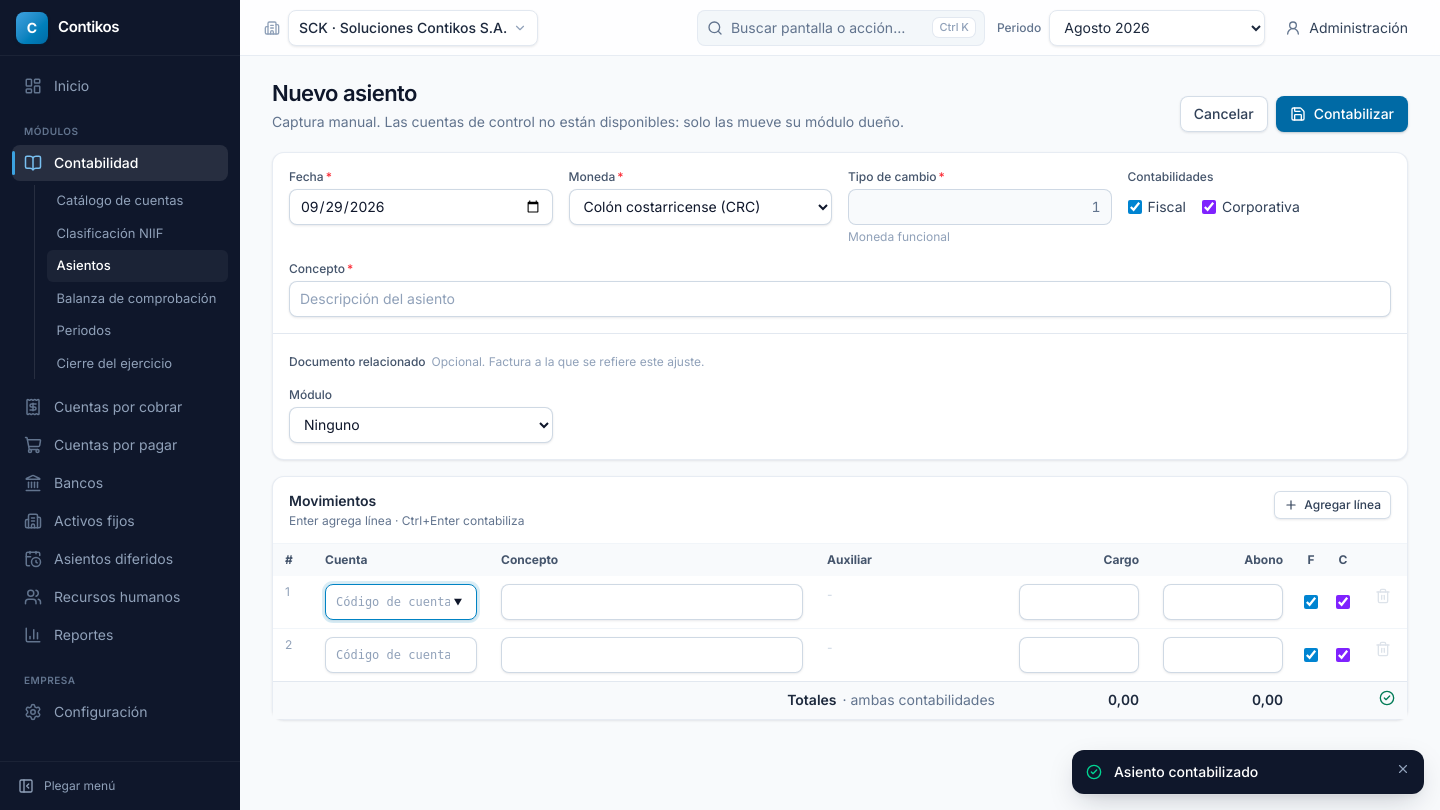
Scenario: Captura de asiento › busca el auxiliar por código o por nombre, nunca por id
This screenshot has width=1440, height=810.
In the date field labelled "Fecha*": (421, 206) [289,188,552,224], type "2026-08-20"
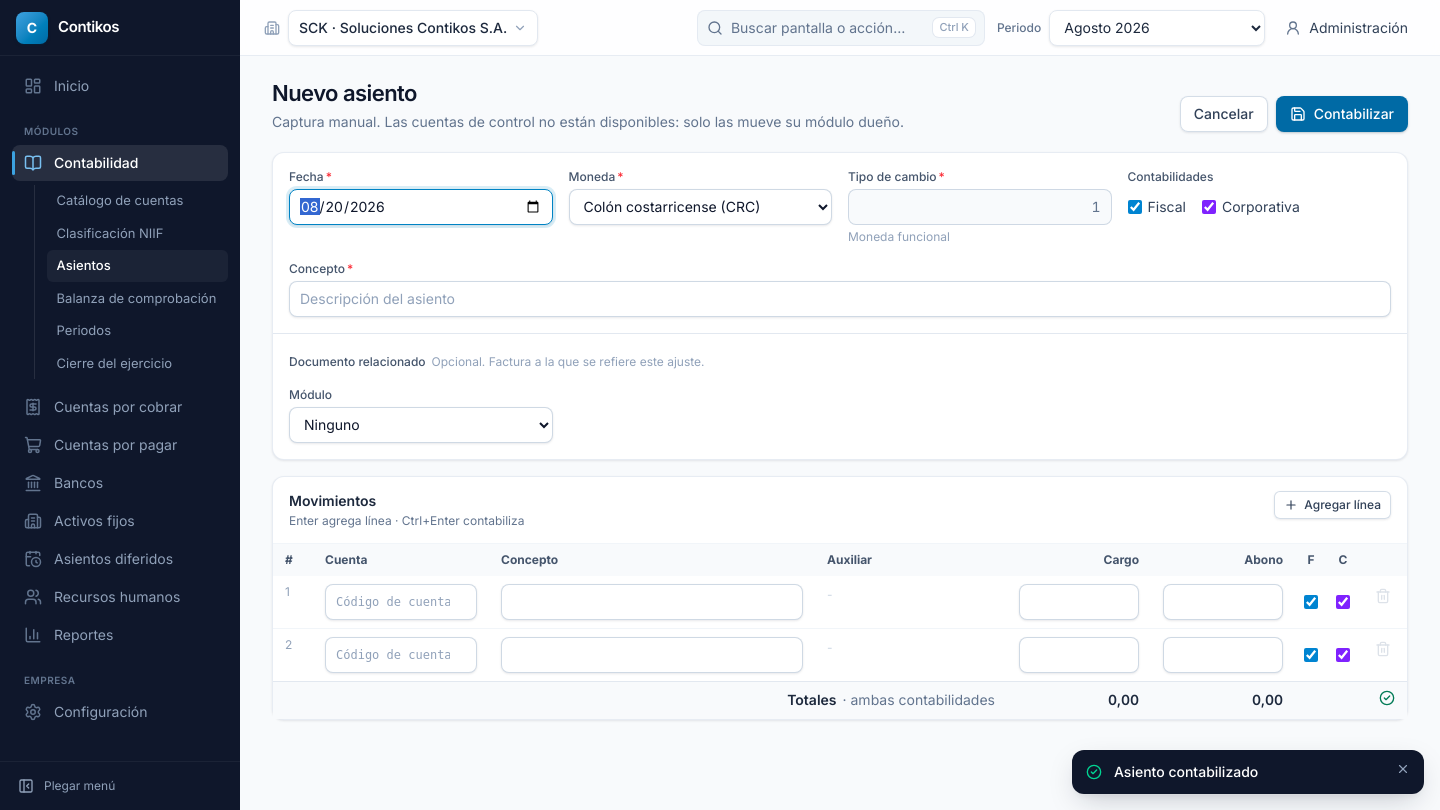
In the 1st field labelled "cuenta": (401, 602) [325,584,477,620], type "2.1.04.001"
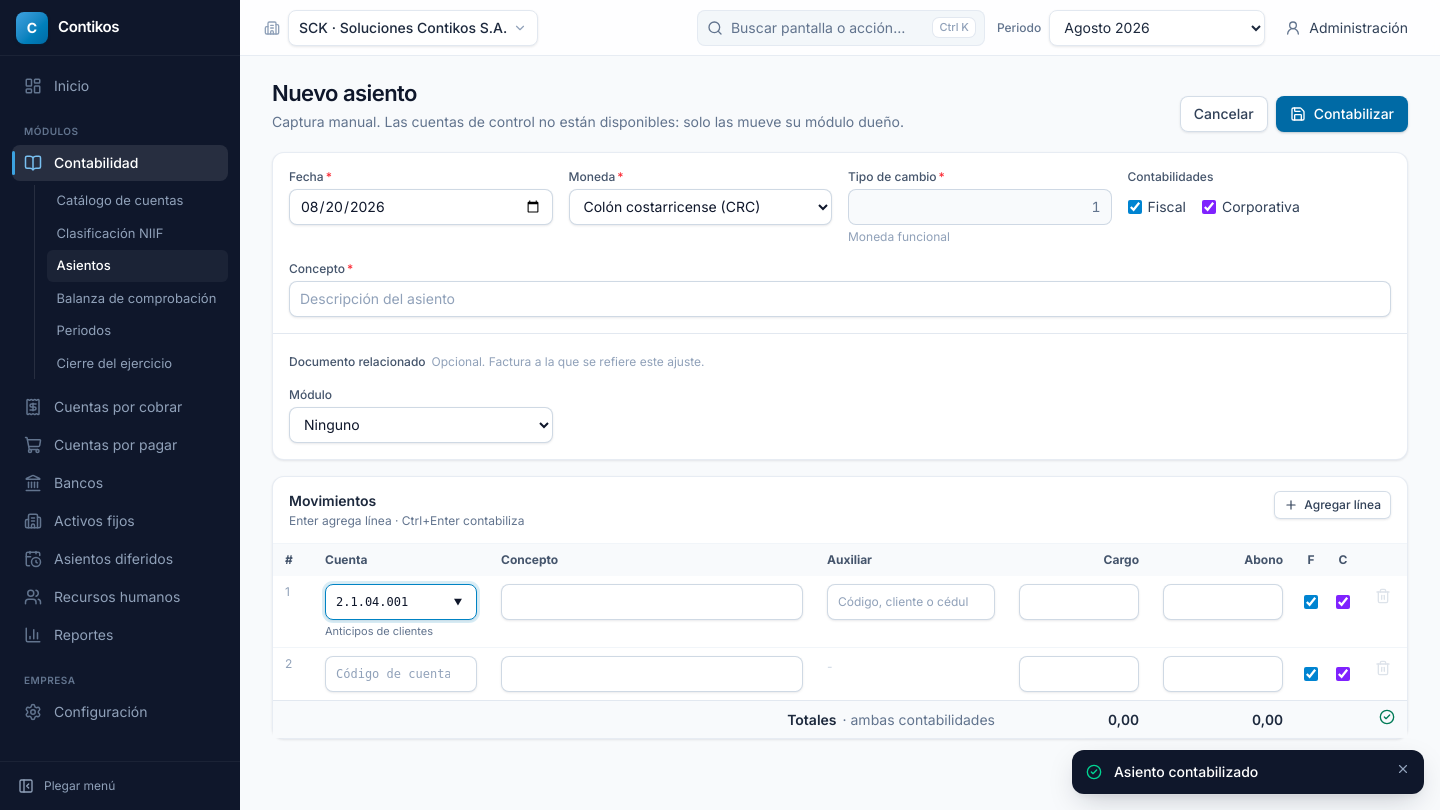
In the field named "Auxiliar": (911, 602) [827,584,995,620], type "C-002"
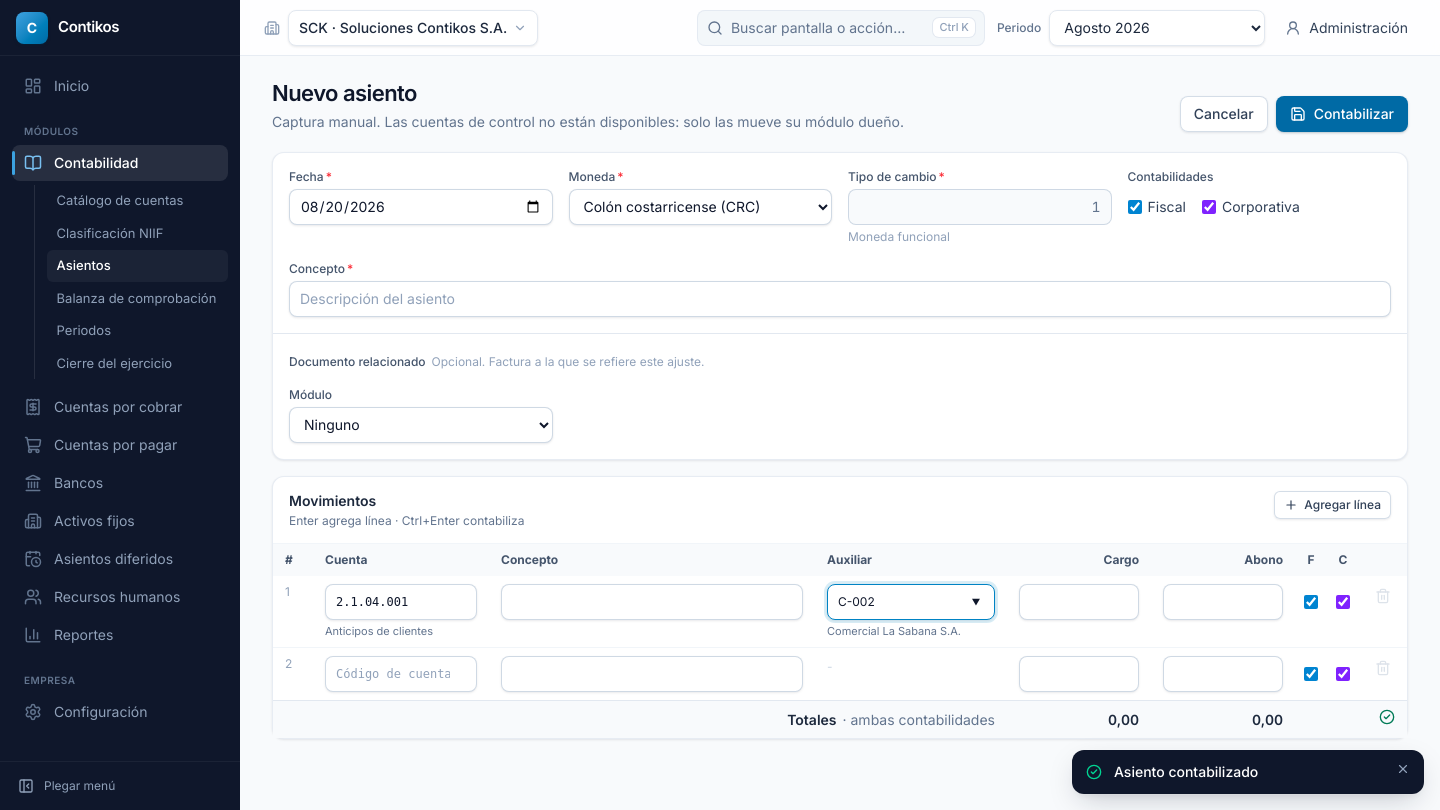
Expected: the text "Comercial La Sabana S.A." is shown, [827,624,961,638]
Replace the text in the field named "Auxiliar" with "cli-002": (911, 602) [827,584,995,620]
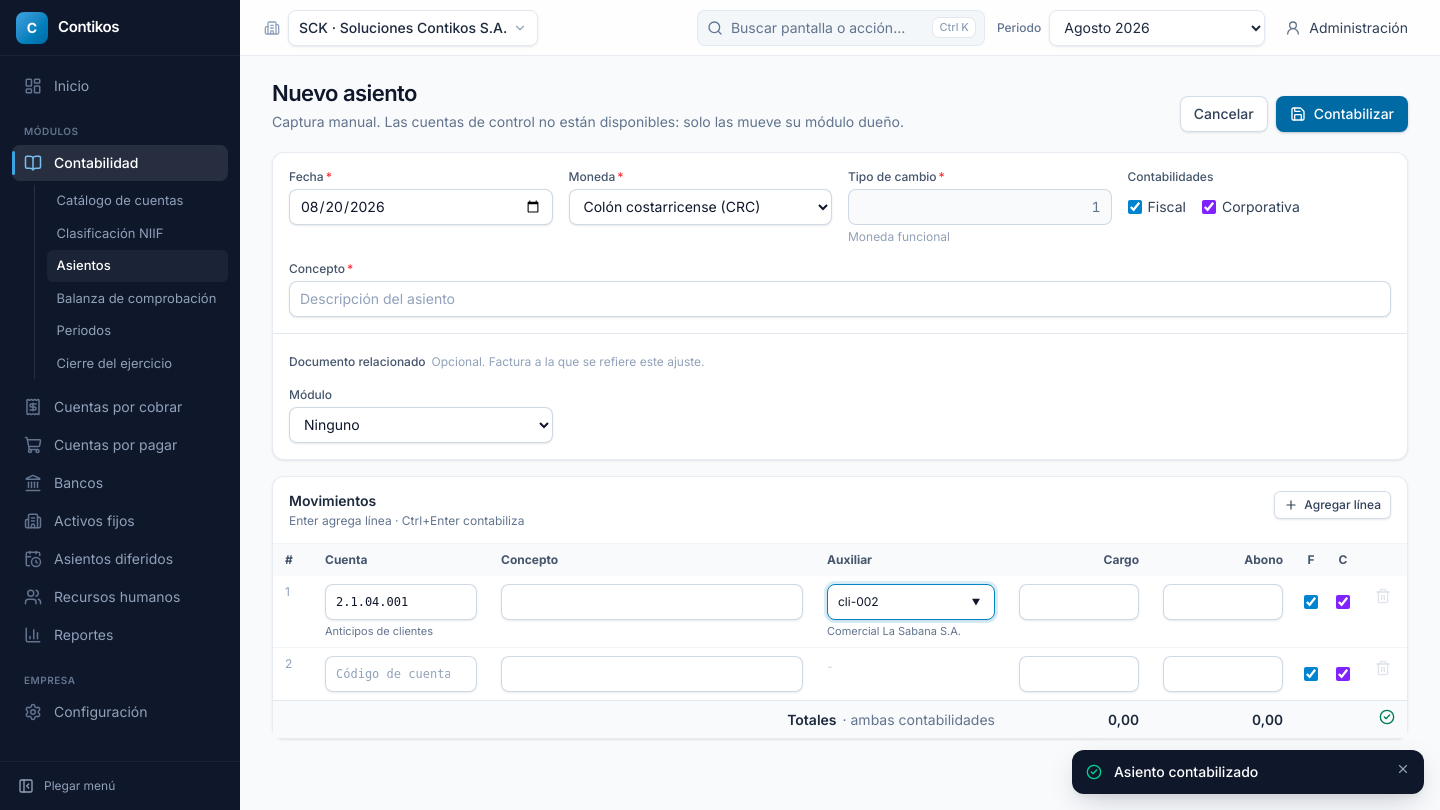
Expected: the text "Comercial La Sabana S.A." is shown, [827,624,961,638]
Replace the text in the field named "Auxiliar" with "Un cliente que no existe": (911, 602) [827,584,995,620]
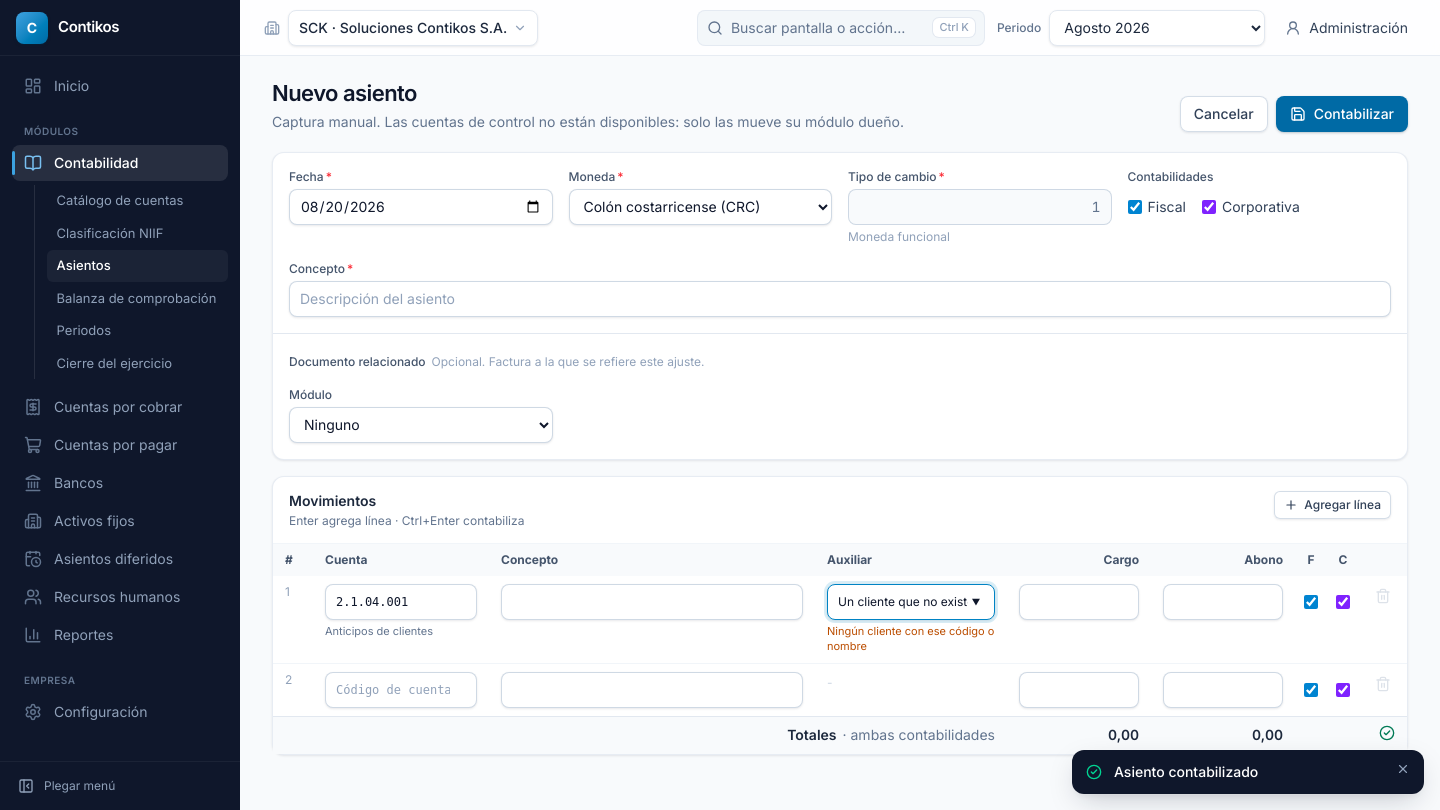
Expected: the text "Ningún cliente con ese código o nombre" is shown, [827,624,995,655]
